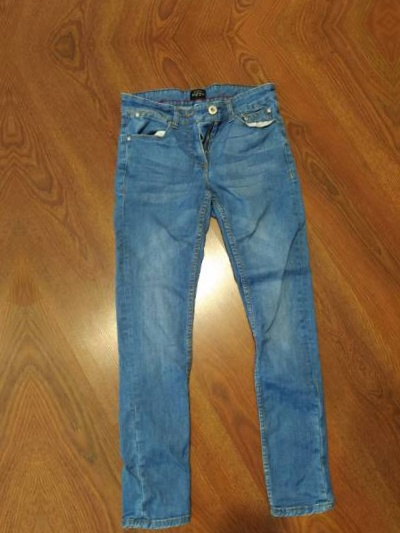Pants: (66, 64, 365, 533), (26, 0, 324, 8)
